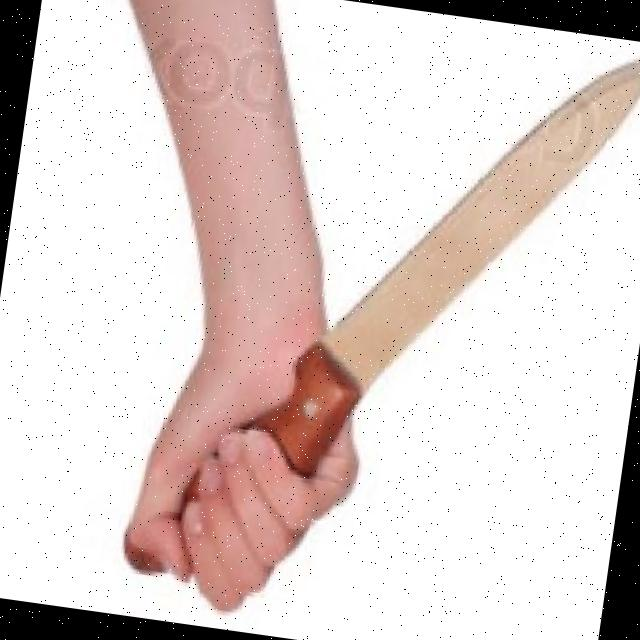Knife: (118, 0, 640, 638)
